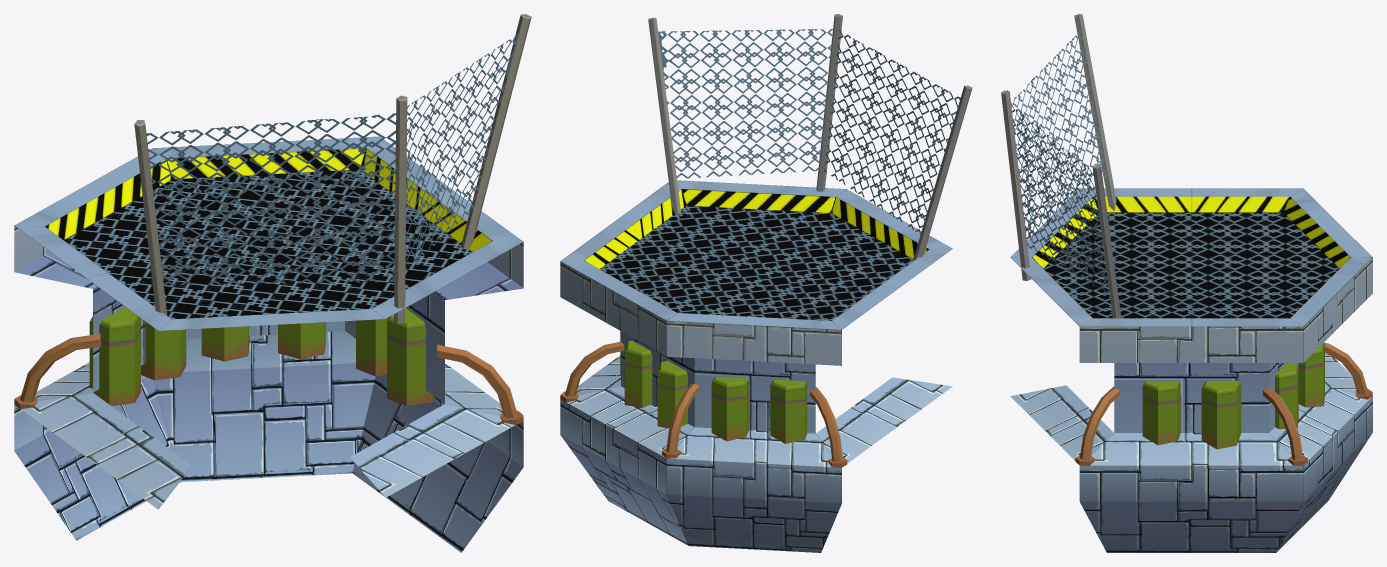
The model's file is JC_ModPanels_EnemyTile_II.fbx.
The picture shows the model from 3 angles, left to right: view 1: azimuth 30°, elevation 25°; view 2: azimuth 150°, elevation 25°; view 3: azimuth 270°, elevation 25°; orthographic projection. The views are drawn at different scales.
Visible parts, largest first — view 1: JC_ModPanels_EnemyTile_II; view 2: JC_ModPanels_EnemyTile_II; view 3: JC_ModPanels_EnemyTile_II.
Boxes of the visible parts, x1,y1,x2,y2 form: JC_ModPanels_EnemyTile_II: [14, 14, 531, 552]; JC_ModPanels_EnemyTile_II: [560, 14, 972, 552]; JC_ModPanels_EnemyTile_II: [1001, 14, 1372, 552].
Size of the model in its own units: 434 by 542 by 441.
